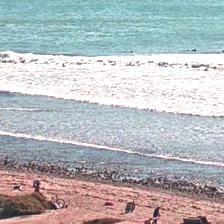surfer: (188, 48, 196, 52), (217, 50, 224, 54), (125, 51, 133, 53), (62, 63, 64, 67)
